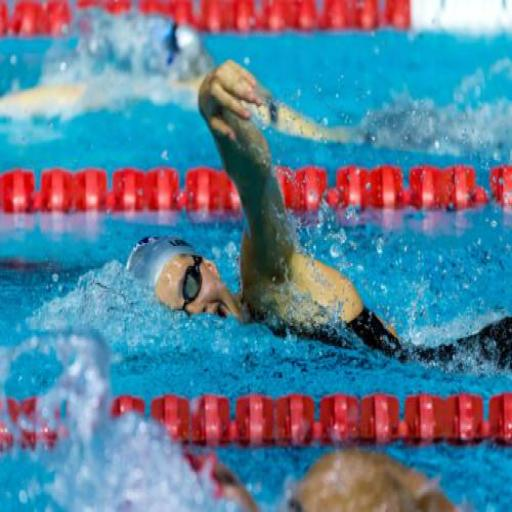swimming: (126, 57, 511, 378)
